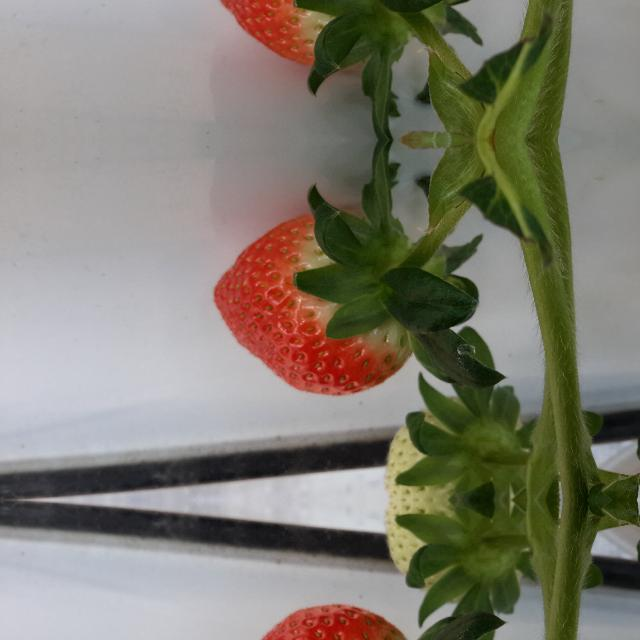Health_100: (212, 210, 412, 396), (212, 0, 411, 69)
